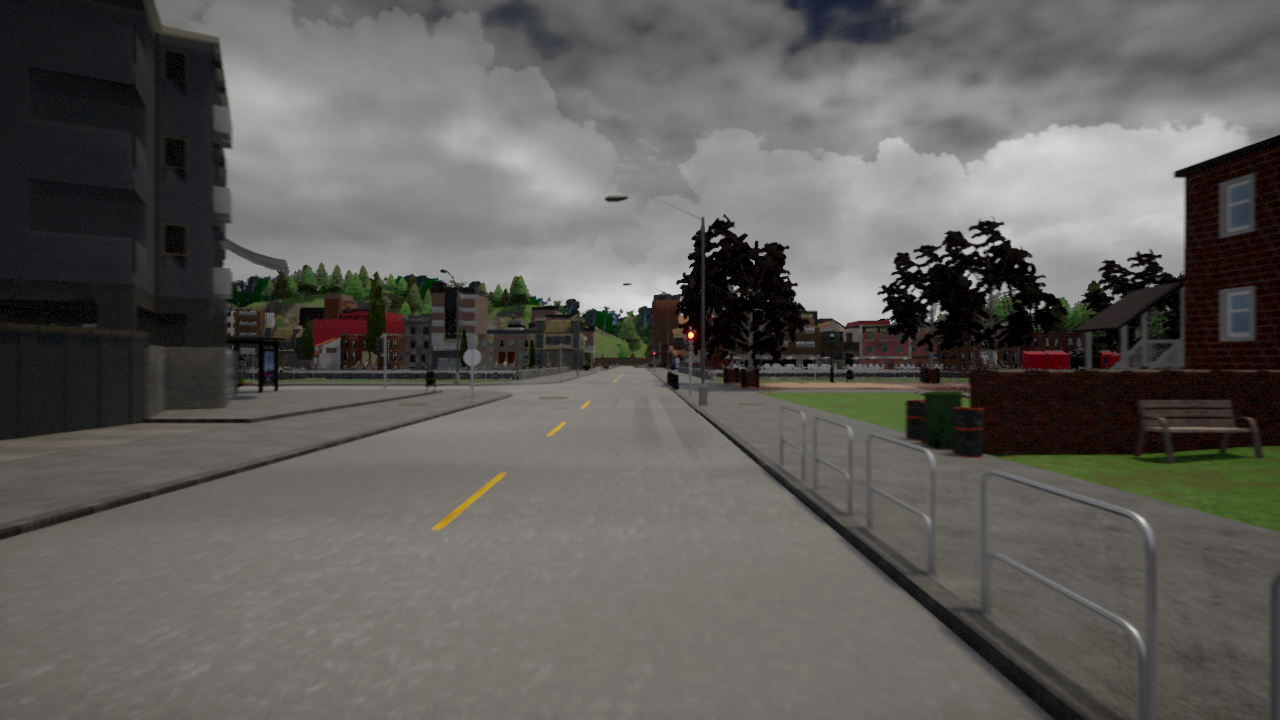red: (686, 330, 694, 352)
